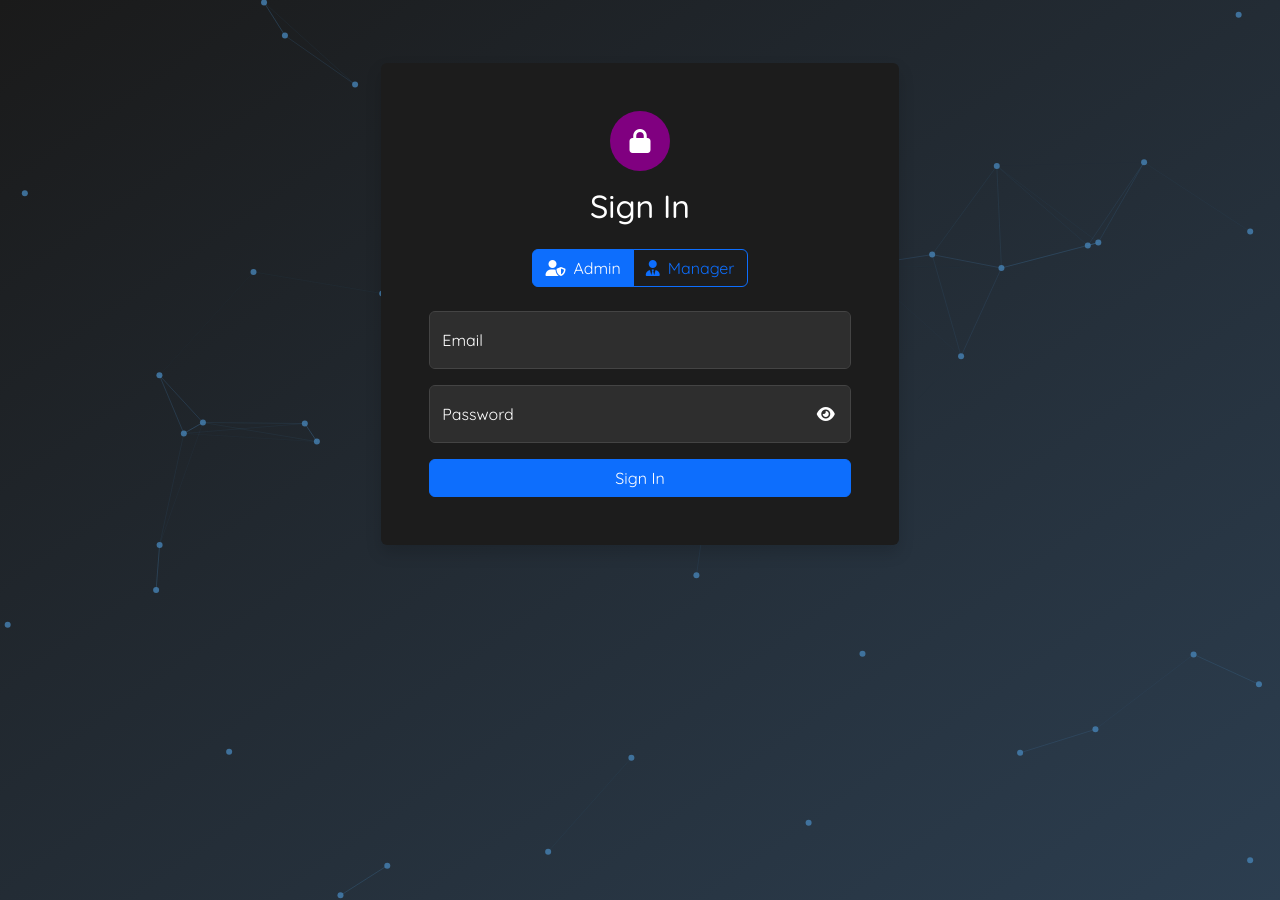
Test: SignInForm integration tests › shows loading state during authentication
Type "test@example.com" into the field with test id "email-input" at coordinates (640, 340), box [429,311,851,369]
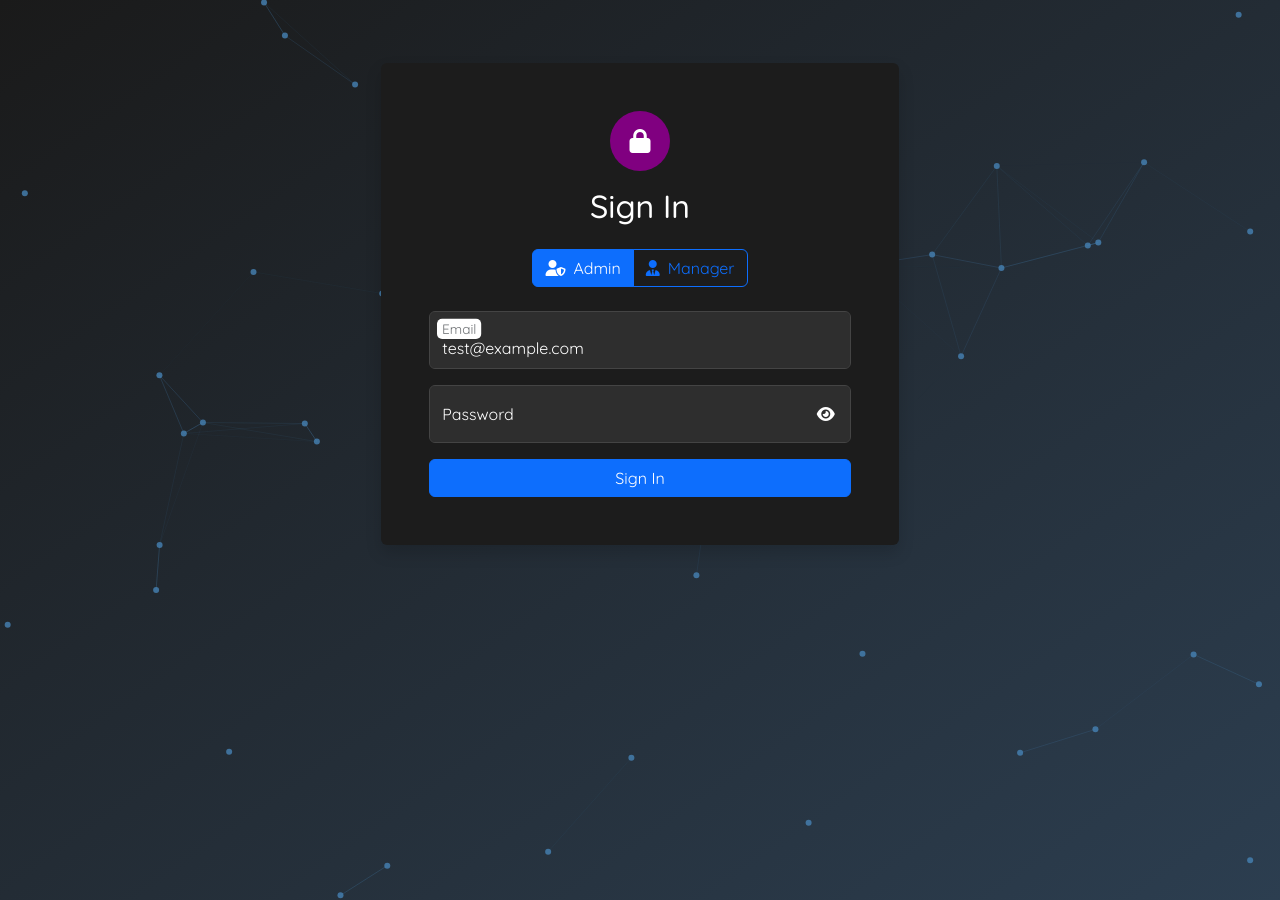
Type "password" into the password field with test id "password-input" at coordinates (640, 414), box [429,385,851,443]
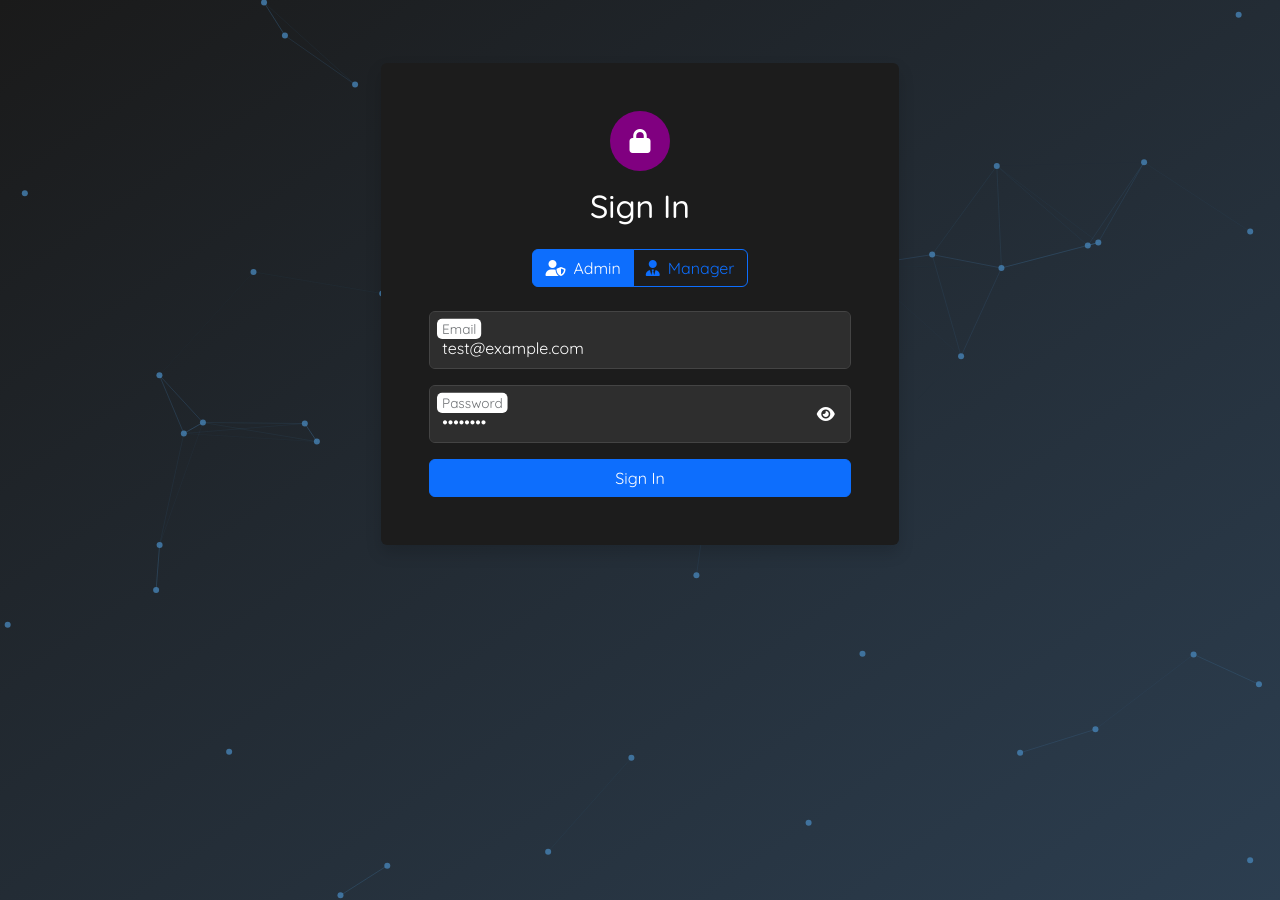
Click the button with test id "sign-in-button" at coordinates (640, 478), box [429,459,851,497]
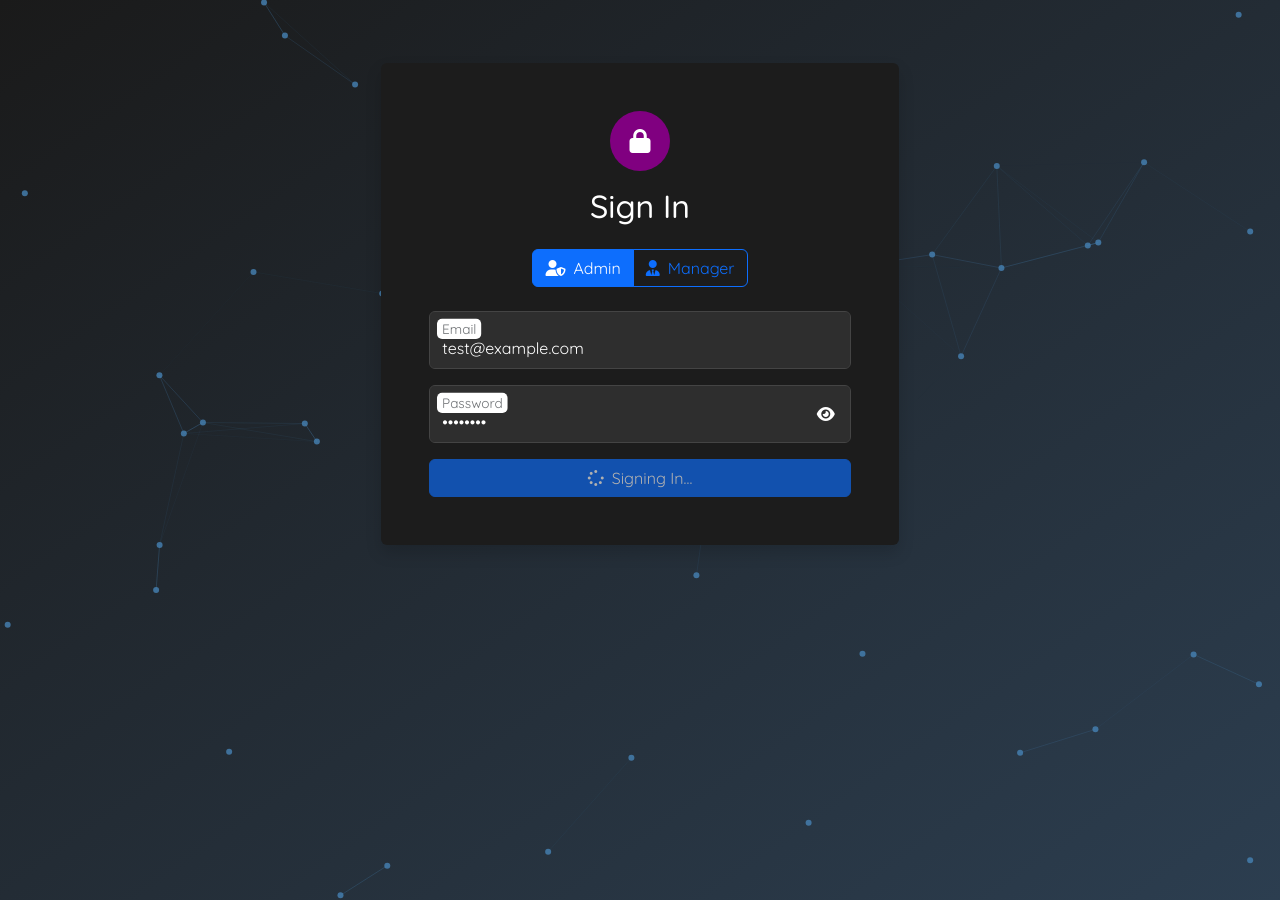
Expected: the button with test id "sign-in-button" is disabled, [429,459,851,497]
